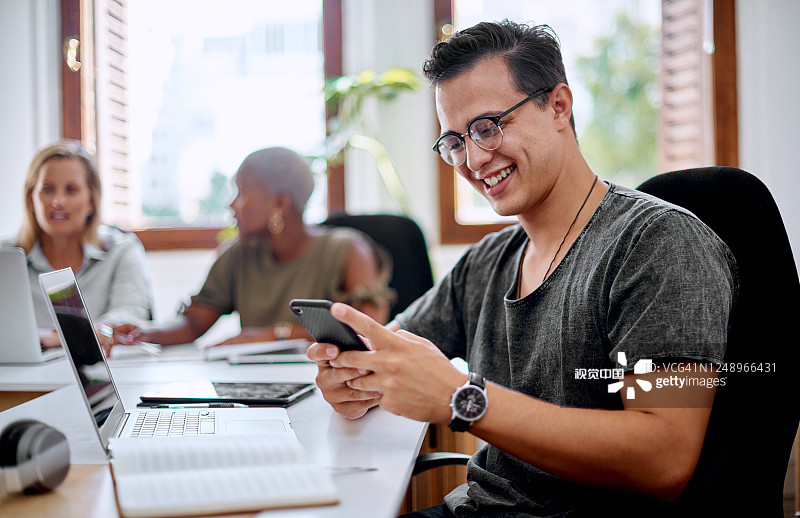reading: (276, 292, 491, 435)
